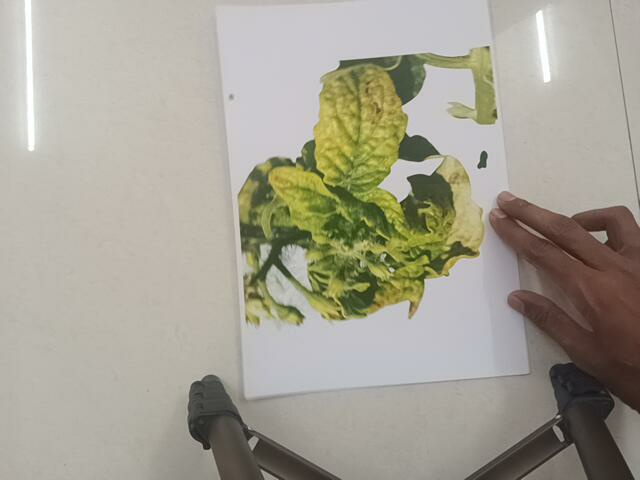Tomamto_Leaf_curl_virus: (235, 54, 480, 327)
